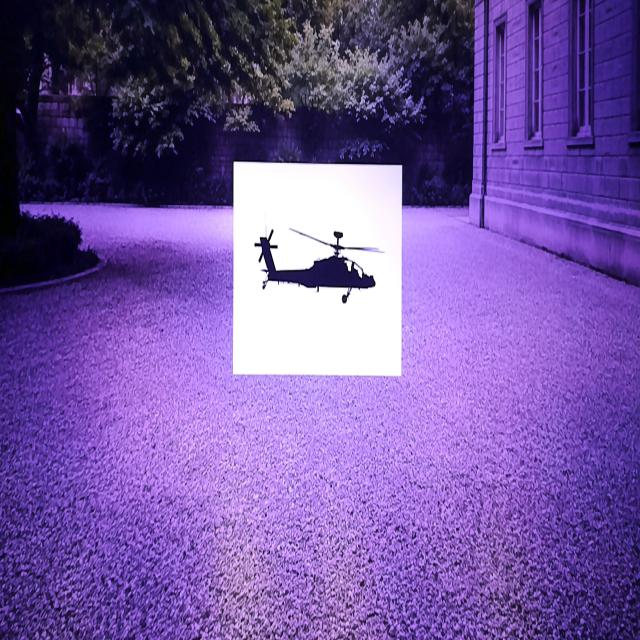Apache friendly: (255, 228, 383, 302)
